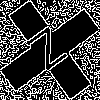Z: (25, 25, 76, 80)
